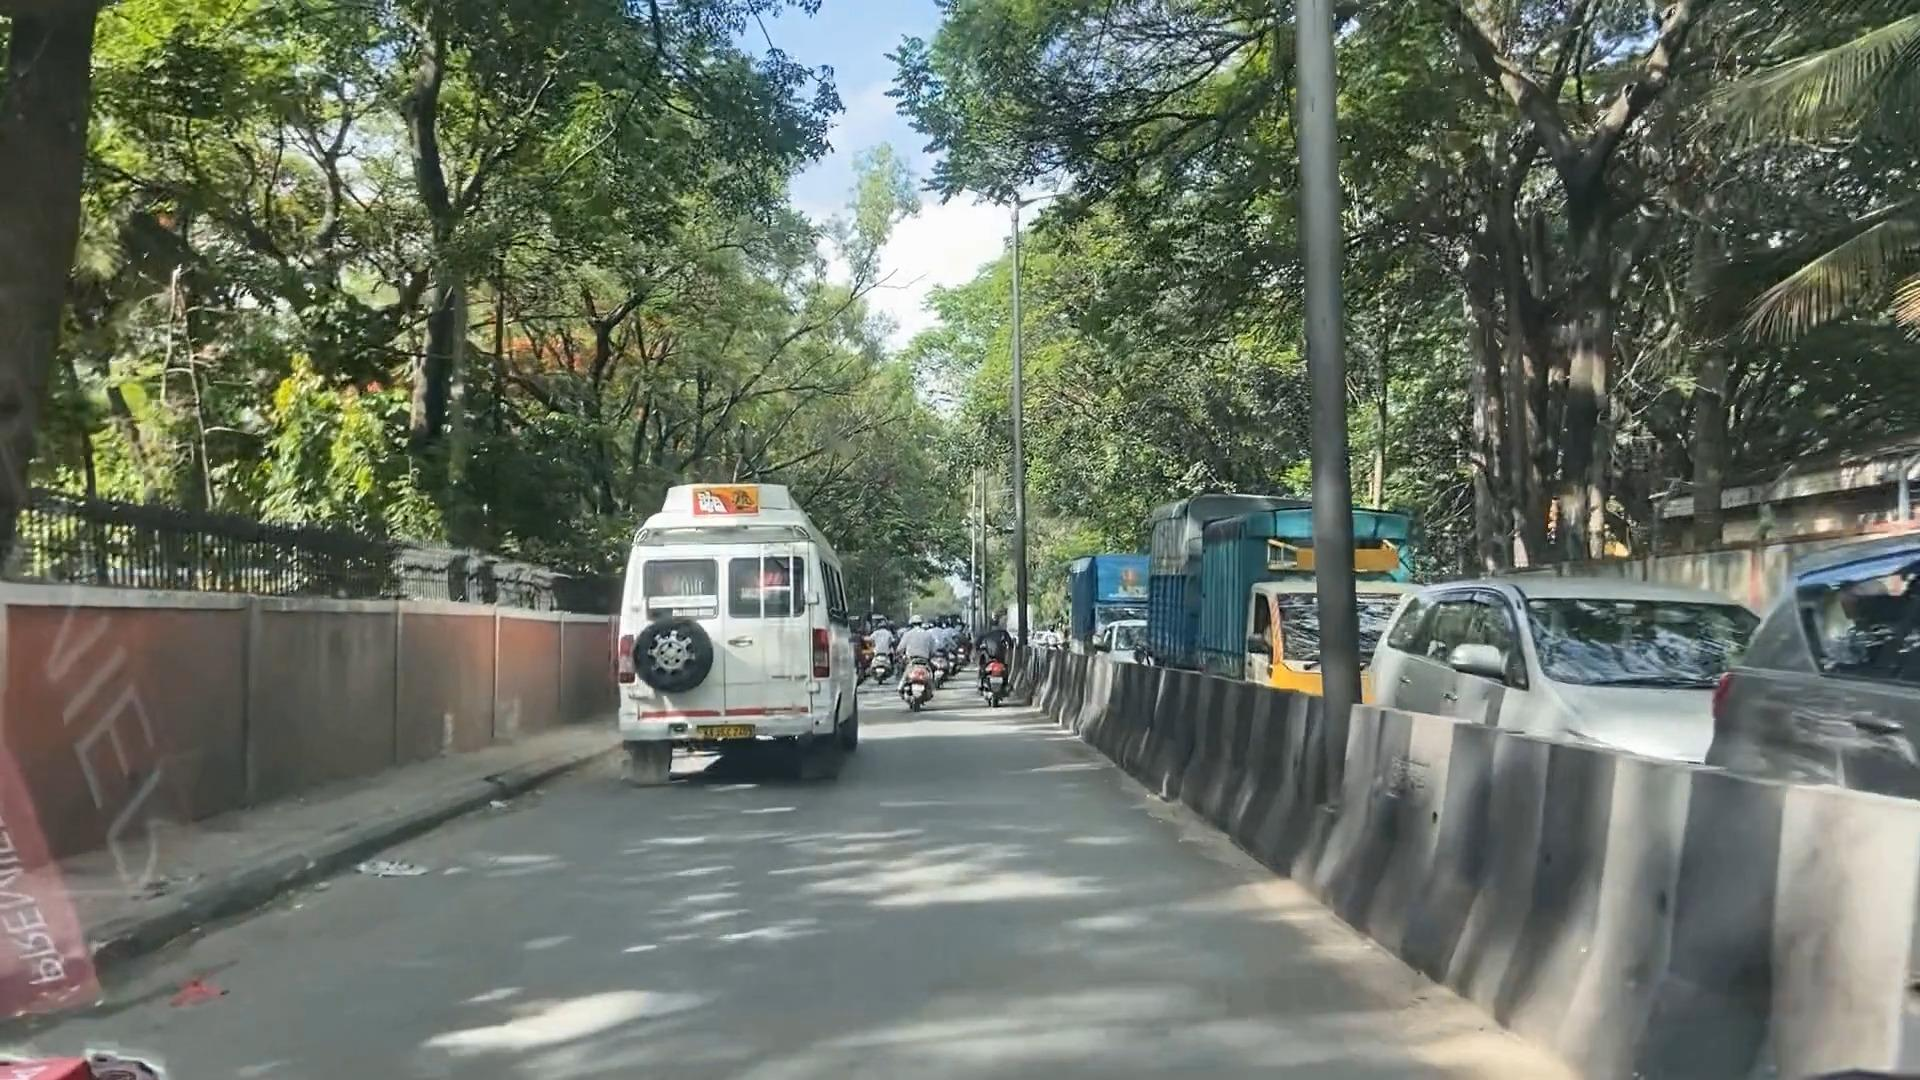HMV: (620, 484, 837, 777)
LMV: (980, 600, 1027, 703), (893, 620, 938, 711)
